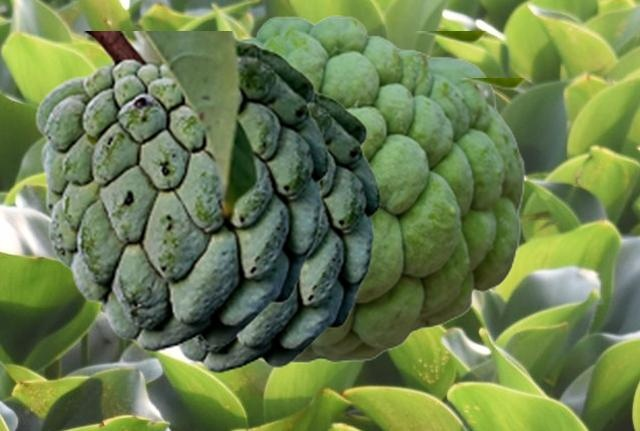atis: (34, 31, 485, 352), (175, 78, 524, 373), (238, 15, 524, 362)
